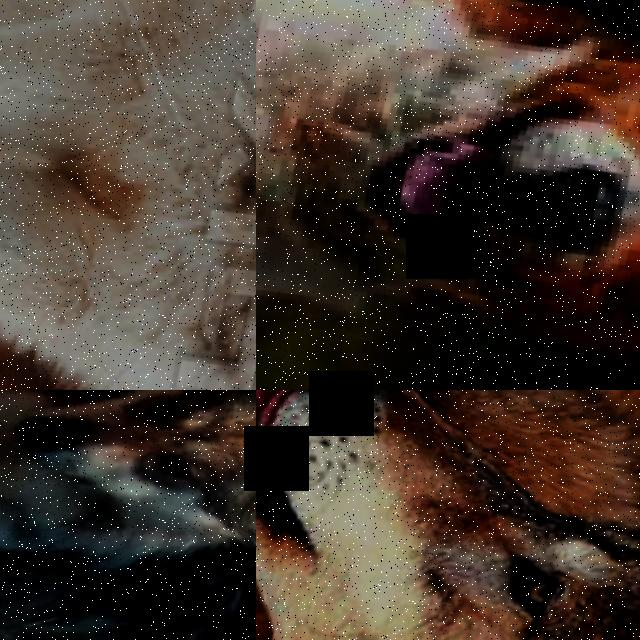dog: (256, 0, 640, 390)
wolf: (0, 0, 256, 390), (256, 390, 640, 640), (256, 390, 640, 555), (0, 390, 256, 597)
